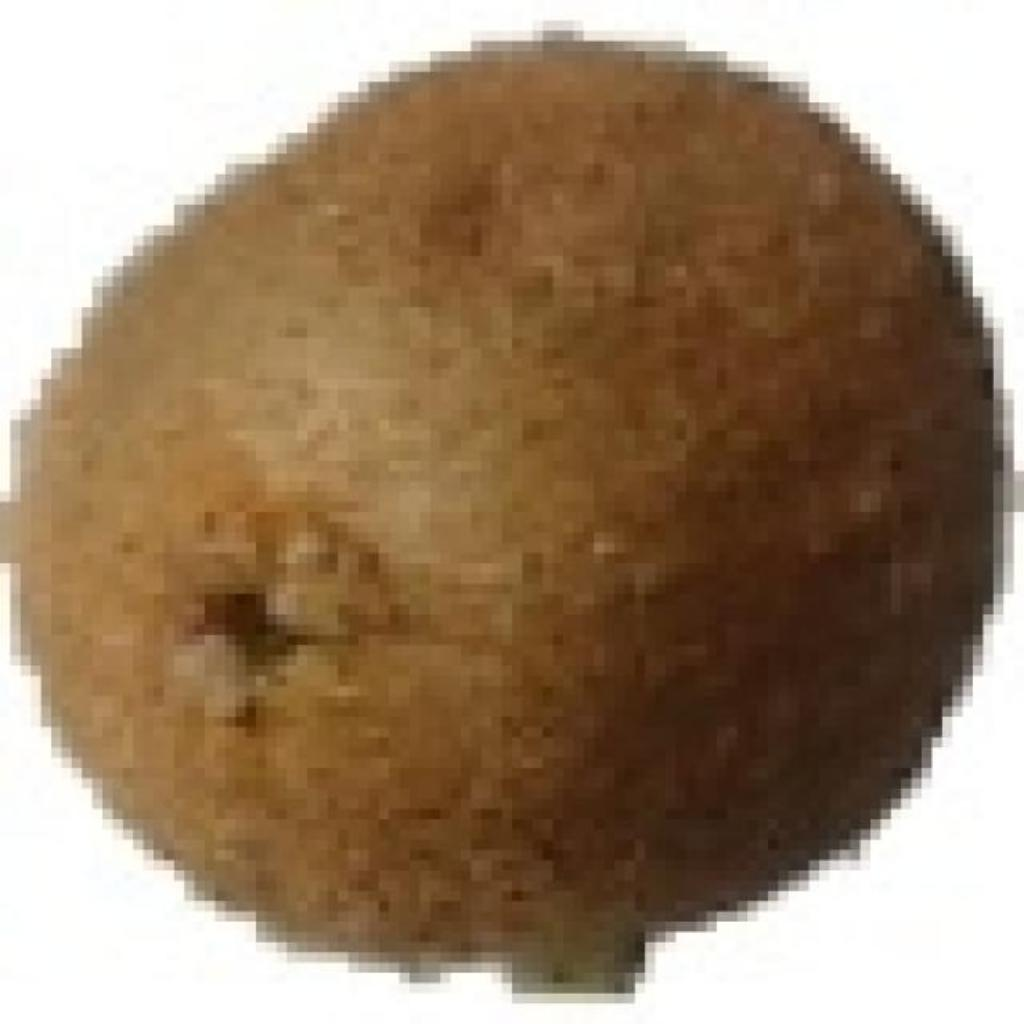kiwi: (10, 31, 983, 973)
